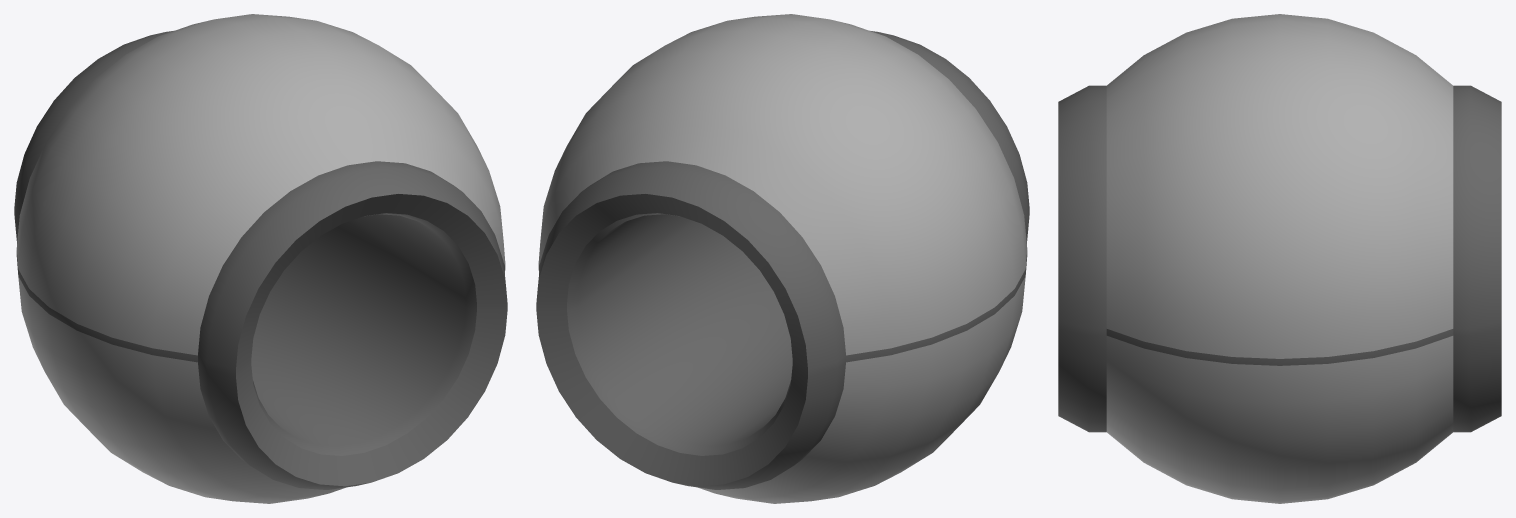
File: house_open.glb
The picture shows the model from 3 angles, left to right: view 1: azimuth 30°, elevation 25°; view 2: azimuth 150°, elevation 25°; view 3: azimuth 270°, elevation 25°; orthographic projection.
Parts seen in each view (by area): view 1: House_Open; view 2: House_Open; view 3: House_Open.
Boxes of the visible parts, x1,y1,x2,y2 form: House_Open: (14,14,507,503); House_Open: (536,14,1029,503); House_Open: (1058,14,1501,503).
Bounding box in the file's own units: 3.99 × 4 × 3.61.
1 material, 1 textured.
